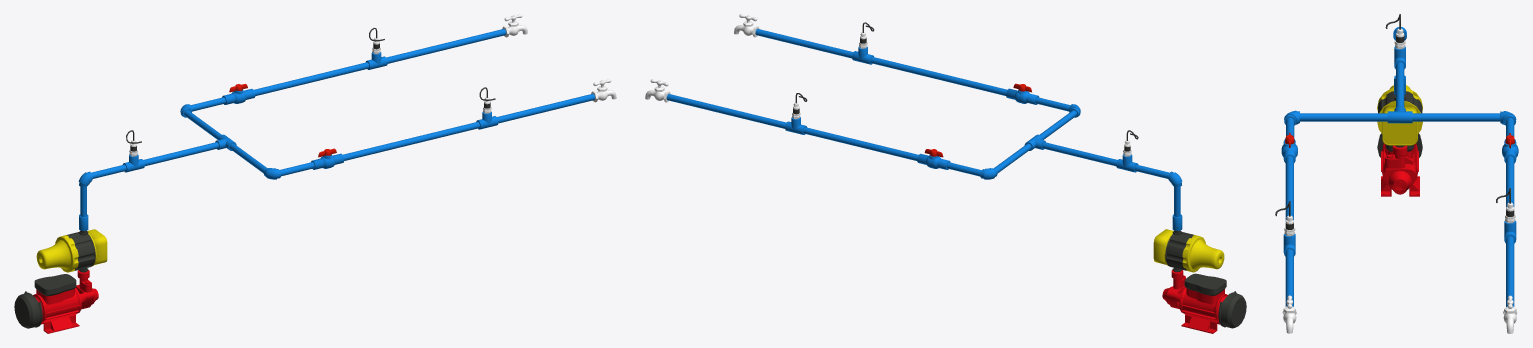
Rendered from JEMAS.glb.
3 renders of one model, left to right at view 1: azimuth 30°, elevation 25°; view 2: azimuth 150°, elevation 25°; view 3: azimuth 270°, elevation 25°, orthographic. The views are drawn at different scales.
Parts seen in each view (by area): view 1: Circle, triconnect.023, triconnect.008, triconnect.001, triconnect.002, triconnect.006, triconnect.013, triconnect.016, triconnect.022; view 2: Circle, triconnect.023, triconnect.008, triconnect.001, triconnect.002, triconnect.006, triconnect.013, triconnect.016, triconnect.022; view 3: Circle, triconnect.023, triconnect.013, triconnect.022, triconnect.001, triconnect.008, triconnect.006, triconnect.002, triconnect.016, triconnect.015, Circle.001, Circle.002 (+5 smaller).
Part boxes in pixels (<box>): Circle: <box>14,270,98,333</box>; triconnect.023: <box>36,229,107,272</box>; triconnect.008: <box>343,122,479,160</box>; triconnect.001: <box>386,29,506,63</box>; triconnect.002: <box>254,62,369,95</box>; triconnect.006: <box>497,93,594,123</box>; triconnect.013: <box>184,110,266,173</box>; triconnect.016: <box>143,142,218,166</box>; triconnect.022: <box>126,28,495,156</box>; Circle: <box>1162,270,1246,333</box>; triconnect.023: <box>1153,229,1224,272</box>; triconnect.008: <box>870,57,1007,95</box>; triconnect.001: <box>666,94,786,128</box>; triconnect.002: <box>803,127,918,160</box>; triconnect.006: <box>755,29,853,58</box>; triconnect.013: <box>994,110,1076,173</box>; triconnect.016: <box>1042,142,1117,166</box>; triconnect.022: <box>792,22,1138,156</box>; Circle: <box>1377,133,1422,196</box>; triconnect.023: <box>1377,85,1422,147</box>; triconnect.013: <box>1300,113,1500,121</box>; triconnect.022: <box>1275,14,1515,236</box>; triconnect.001: <box>1506,236,1514,306</box>; triconnect.008: <box>1285,156,1293,220</box>; triconnect.006: <box>1285,249,1293,306</box>; triconnect.002: <box>1506,156,1514,207</box>; triconnect.016: <box>1396,62,1404,106</box>; triconnect.015: <box>1387,106,1412,123</box>; Circle.001: <box>1282,295,1296,333</box>; Circle.002: <box>1503,295,1517,333</box>.
Size of the model in its own units: 85.67 by 26.2 by 26.45.
